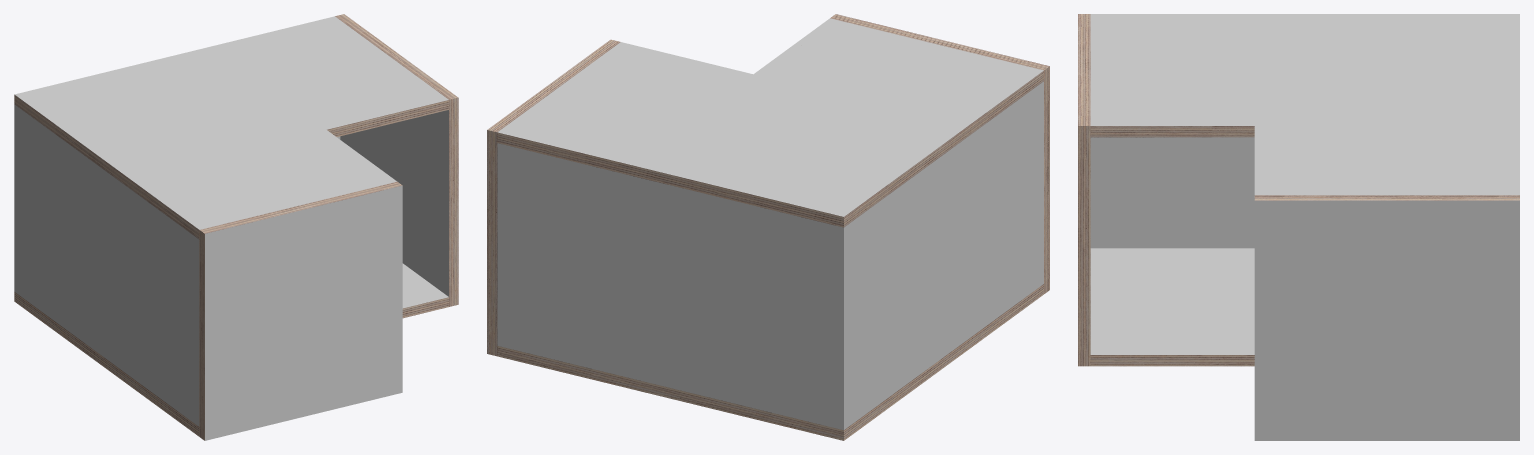
File: Closed Corner.fbx
3 renders of one model, left to right at view 1: azimuth 30°, elevation 25°; view 2: azimuth 150°, elevation 25°; view 3: azimuth 270°, elevation 25°, orthographic. The views are drawn at different scales.
Visible parts, largest first — view 1: Corner Closed TM, Corner Closed TL, Corner Closed L, Corner Closed BL, Corner Closed TR, Corner Closed TML, Corner Closed TMR, Corner Closed C, Corner Closed BM, Corner Closed R, Corner Closed BR, Corner Closed BML (+1 smaller); view 2: Corner Closed TM, Corner Closed C, Corner Closed BM, Corner Closed TR, Corner Closed TMR, Corner Closed TL, Corner Closed TML, Corner Closed BMR, Corner Closed R, Corner Closed BR, Corner Closed CR, Corner Closed L (+3 smaller); view 3: Corner Closed TR, Corner Closed TM, Corner Closed R, Corner Closed BR, Corner Closed BML, Corner Closed BL, Corner Closed TL, Corner Closed TML, Corner Closed TMR, Corner Closed L, Corner Closed CL.
Part boxes in pixels (box(x1,y1,x2,y2)): Corner Closed TM: box(14, 46, 326, 246); Corner Closed TL: box(166, 157, 402, 302); Corner Closed L: box(166, 254, 402, 371); Corner Closed BL: box(166, 323, 402, 440); Corner Closed TR: box(278, 14, 458, 168); Corner Closed TML: box(128, 130, 364, 274); Corner Closed TMR: box(212, 30, 392, 136); Corner Closed C: box(14, 163, 128, 315); Corner Closed BM: box(14, 233, 128, 384); Corner Closed R: box(337, 124, 458, 237); Corner Closed BR: box(402, 204, 458, 318); Corner Closed BML: box(128, 316, 166, 412); Corner Closed TM: box(630, 74, 967, 291); Corner Closed C: box(630, 201, 967, 366); Corner Closed BM: box(630, 276, 967, 440); Corner Closed TR: box(487, 39, 681, 221); Corner Closed TMR: box(558, 57, 752, 239); Corner Closed TL: box(795, 14, 1049, 170); Corner Closed TML: box(754, 44, 1008, 200); Corner Closed BMR: box(558, 296, 629, 388); Corner Closed R: box(487, 204, 558, 296); Corner Closed BR: box(487, 279, 558, 370); Corner Closed CR: box(558, 222, 629, 313); Corner Closed L: box(1008, 141, 1049, 245); Corner Closed TR: box(1254, 163, 1519, 280); Corner Closed TM: box(1254, 14, 1519, 125); Corner Closed R: box(1254, 280, 1519, 360); Corner Closed BR: box(1254, 361, 1519, 440); Corner Closed BML: box(1166, 179, 1254, 366); Corner Closed BL: box(1078, 179, 1166, 366); Corner Closed TL: box(1078, 14, 1166, 205); Corner Closed TML: box(1166, 14, 1254, 137); Corner Closed TMR: box(1254, 126, 1519, 163); Corner Closed L: box(1078, 137, 1166, 286); Corner Closed CL: box(1166, 137, 1254, 179).
Size of the model in its own units: 66.67 by 40 by 66.67.
